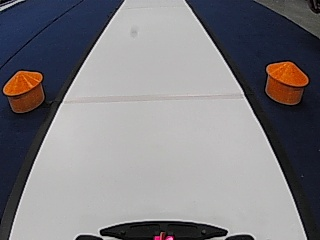granary: (263, 59, 310, 106), (2, 68, 46, 113)
